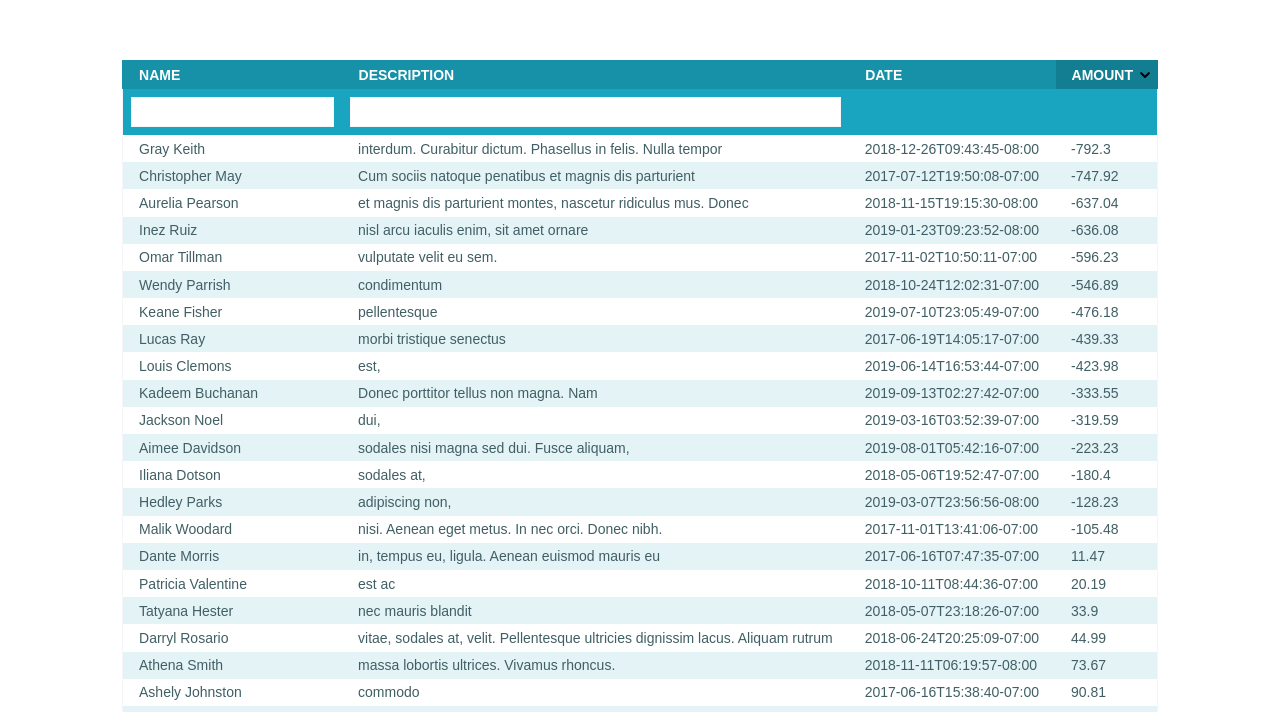
Tests sortability › Sorts table by Amount in descending order when user clicks on the Amount column header again
Step 1. Click the column heading "Amount" → {"x": 1106, "y": 75}, box [1055,61,1157,89]
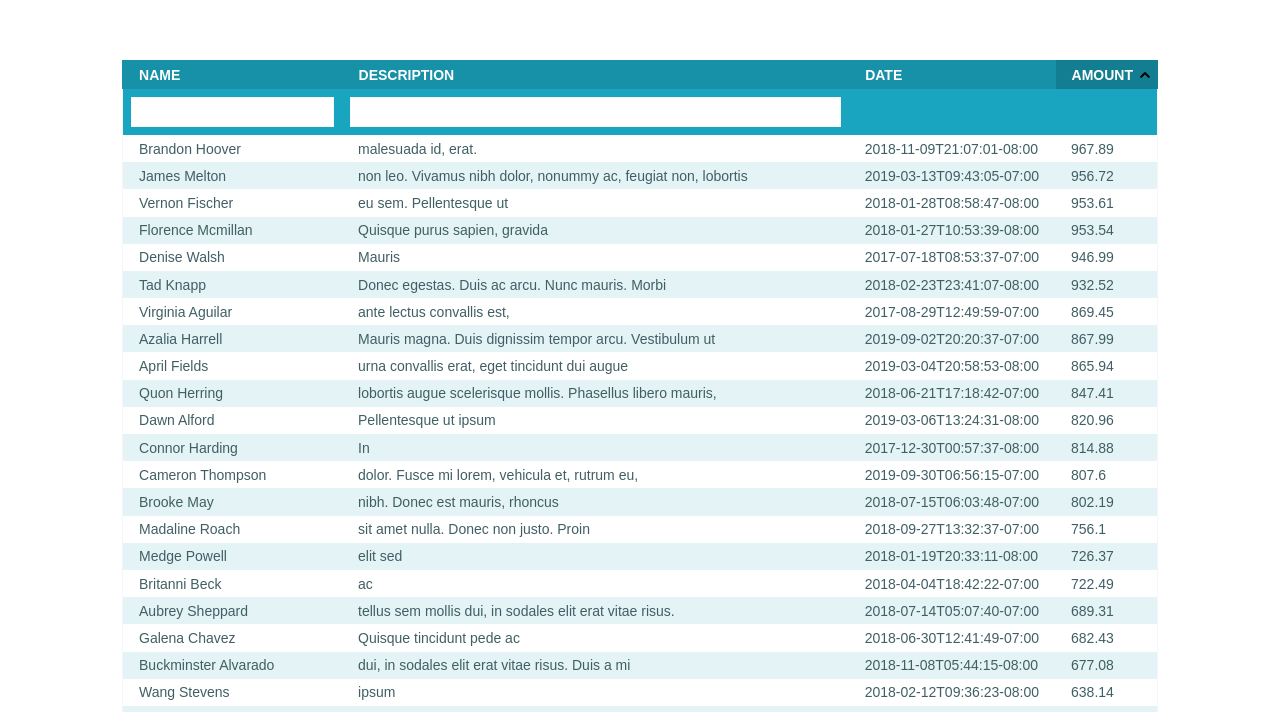
Now the text "967.89" is shown, box [1071,141,1114,157]
